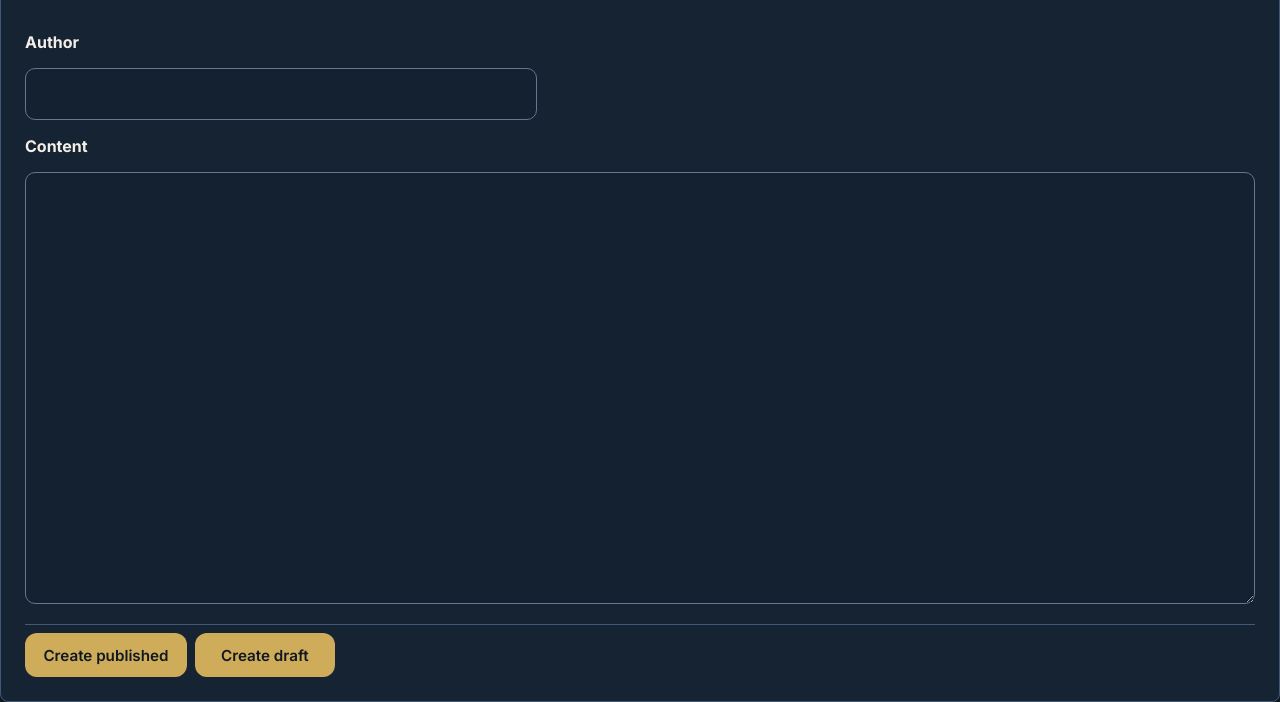
Test: ArticleEditorForm › shows local validation errors and scrolls to the first invalid field
(page scrolled)
Click the button "Create published" at {"x": 106, "y": 655}, box [25, 633, 187, 677]
(page scrolled)
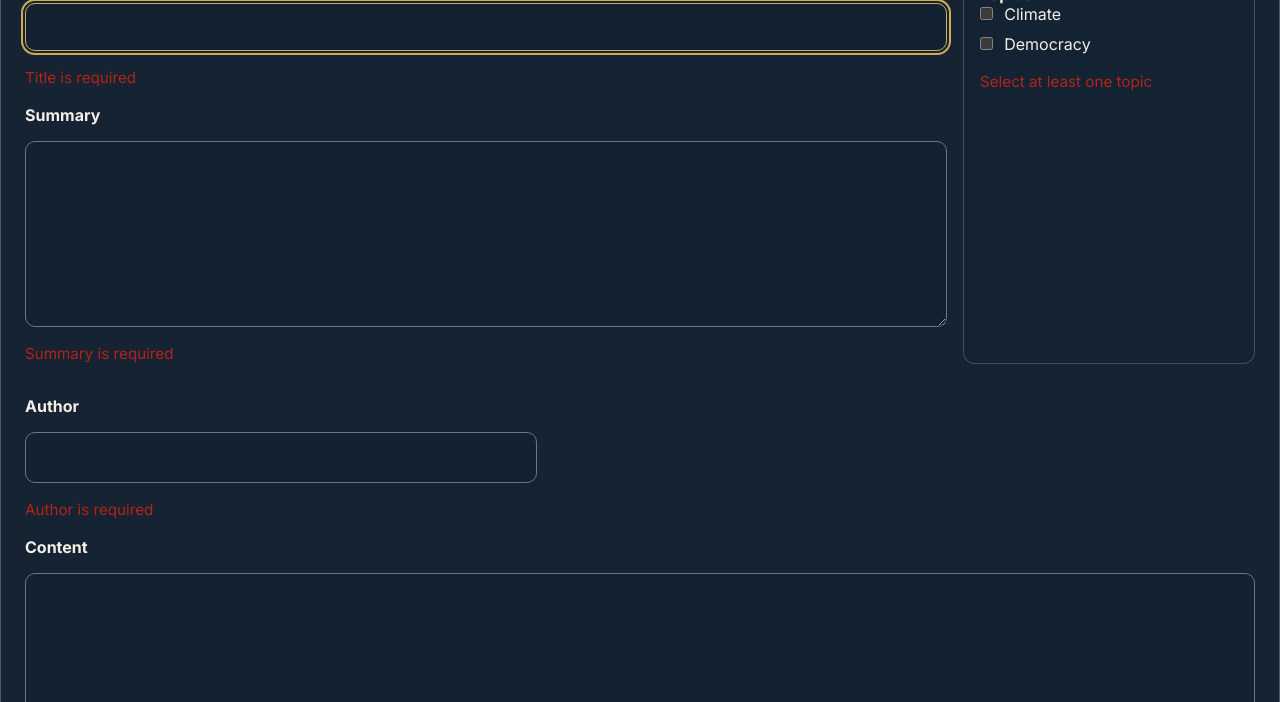
Expected: the text "Title is required" is shown, [25, 68, 136, 87]
Expected: the text "Summary is required" is shown, [25, 344, 174, 363]
Expected: the text "Author is required" is shown, [25, 500, 153, 520]
